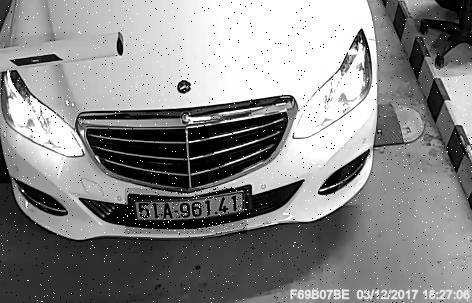License-plate: (127, 189, 250, 235)
